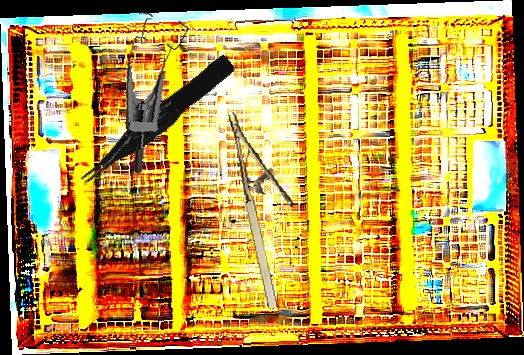Needle Holder: (227, 104, 311, 310)
Speculum: (107, 4, 211, 175)
Tissue Forceps: (71, 53, 241, 188)
